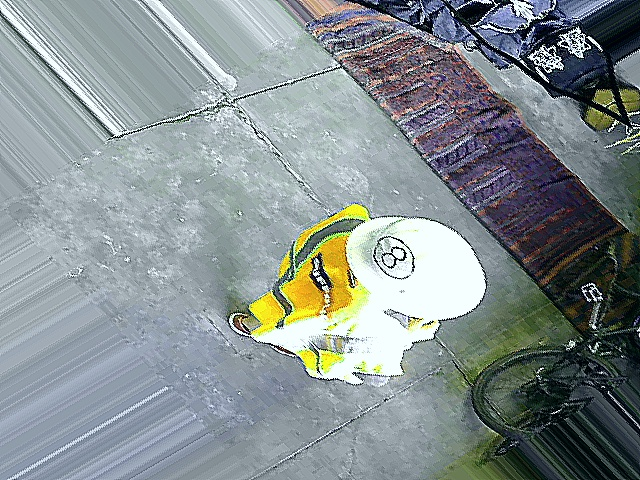eight: (360, 230, 425, 285)
